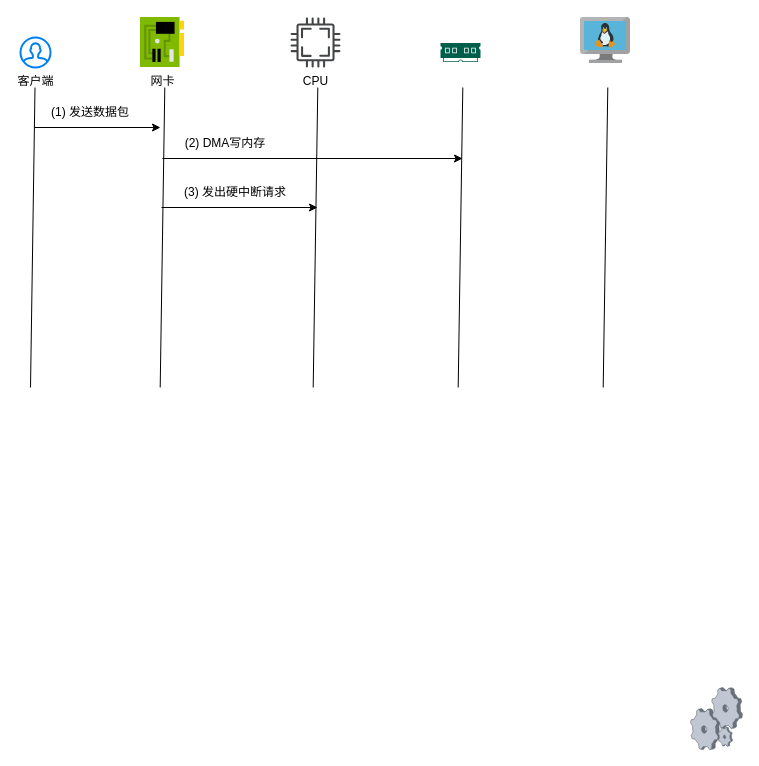
This 759x766 diagram has some shape labels left out. Here are the shapes that lost their labels. From the top down, the centre of each, then its label:
pixel 460 52: 内存
pixel 605 40: OS 内核
